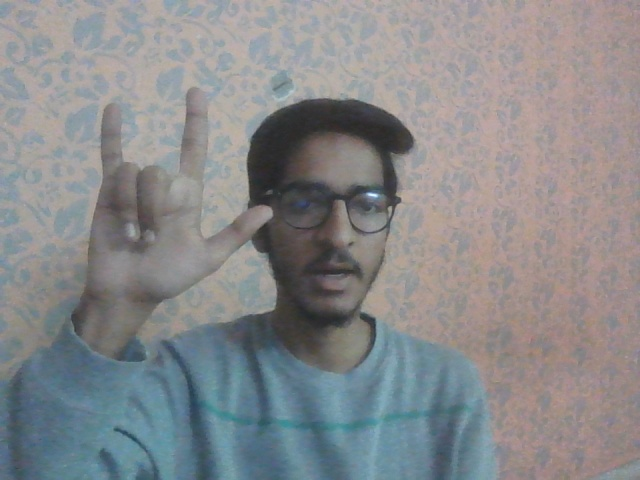ILoveYou: (81, 82, 276, 306)
